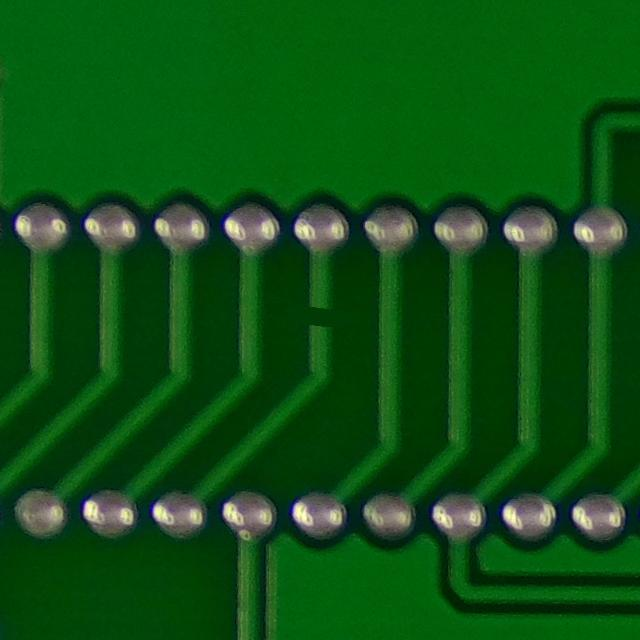open_circuit: (301, 298, 339, 342)
